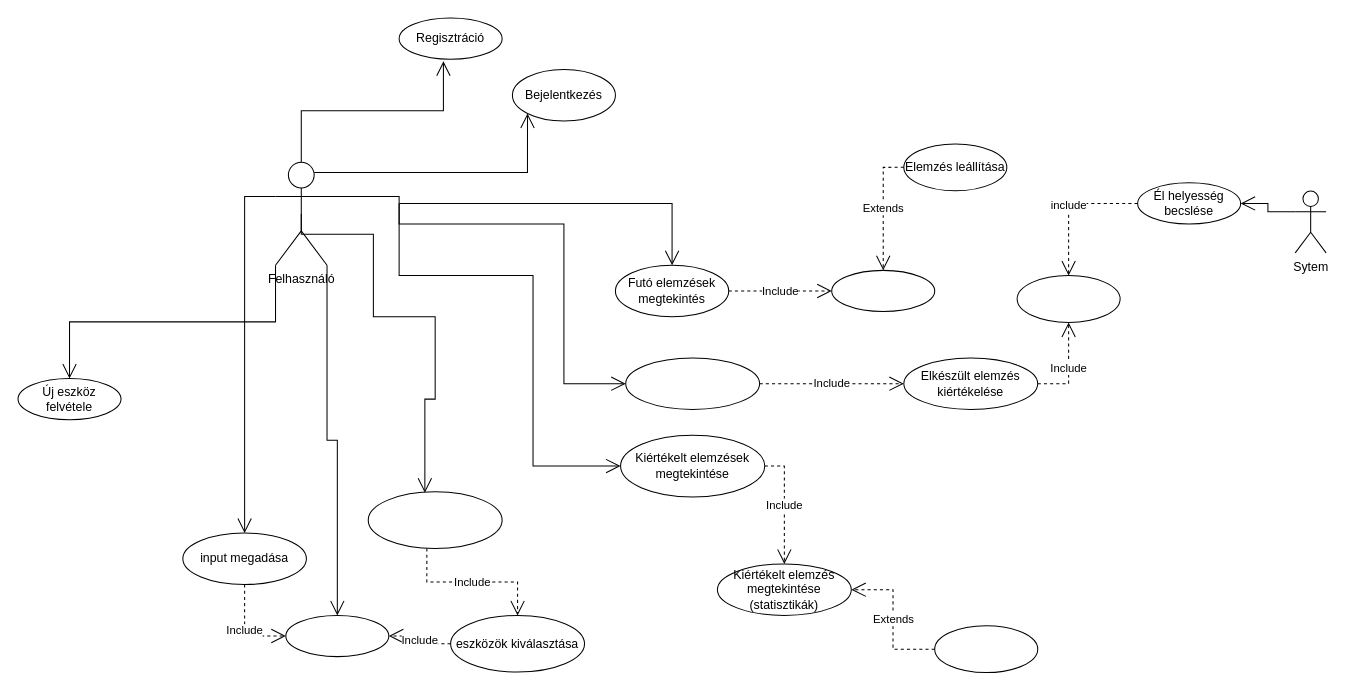
Image size: 1346x691. Some labels were removed from this diagram. Here are the shapes that lost their labels. From the top down, the centre of each, then its label:
At (x=883, y=290): "Futó elemzés megtekintése".
At (x=1068, y=298): "él validálása".
At (x=692, y=383): "Elkészült elemzések megtekintése".
At (x=434, y=519): "nyelv kiválasztása".
At (x=337, y=635): "Új elemzés indítása".
At (x=986, y=649): "riport készítés".
